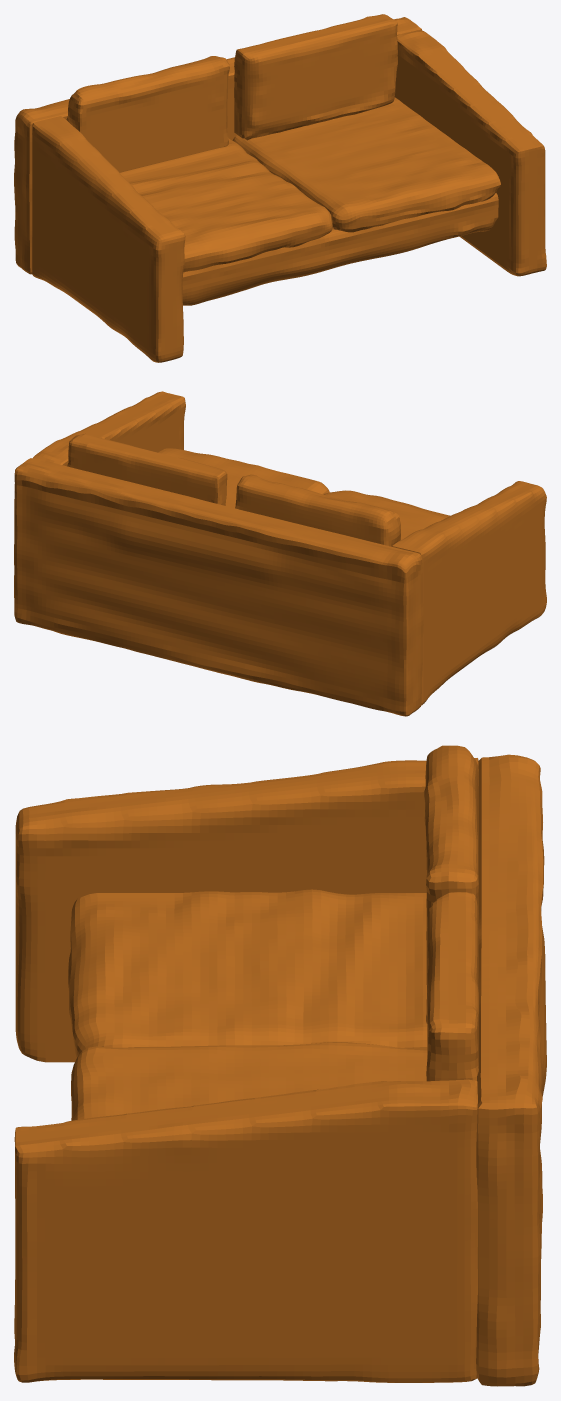
File: Couch.fbx
3 views of the same model, one above another, from view 1: azimuth 30°, elevation 25°; view 2: azimuth 150°, elevation 25°; view 3: azimuth 270°, elevation 25° (orthographic). The views are drawn at different scales.
Visible parts, largest first — view 1: Cube.001, Cube.005, Cube.002, Cube.004, Cube.007, Cube.006, Cube, Cube.003; view 2: Cube.003, Cube.001, Cube.006, Cube.007, Cube.002, Cube.005, Cube.004; view 3: Cube.002, Cube.004, Cube.001, Cube.003, Cube.005, Cube.007, Cube.006.
Part boxes in pixels (bbox=[...]): Cube.001: bbox=[32, 116, 185, 362]; Cube.005: bbox=[232, 97, 500, 232]; Cube.002: bbox=[394, 30, 546, 276]; Cube.004: bbox=[120, 138, 332, 272]; Cube.007: bbox=[234, 14, 397, 140]; Cube.006: bbox=[66, 56, 229, 172]; Cube: bbox=[182, 193, 498, 305]; Cube.003: bbox=[14, 17, 421, 274]; Cube.003: bbox=[14, 458, 423, 716]; Cube.001: bbox=[392, 481, 546, 705]; Cube.006: bbox=[235, 474, 400, 546]; Cube.007: bbox=[67, 433, 227, 505]; Cube.002: bbox=[33, 391, 185, 466]; Cube.005: bbox=[158, 448, 329, 508]; Cube.004: bbox=[323, 490, 450, 539]; Cube.002: bbox=[14, 1079, 477, 1382]; Cube.004: bbox=[68, 889, 427, 1057]; Cube.001: bbox=[15, 758, 478, 1062]; Cube.003: bbox=[476, 754, 546, 1386]; Cube.005: bbox=[71, 1042, 427, 1120]; Cube.007: bbox=[426, 892, 479, 1081]; Cube.006: bbox=[424, 745, 478, 1023].
Bounding box in the file's own units: 979 × 431 × 621.
